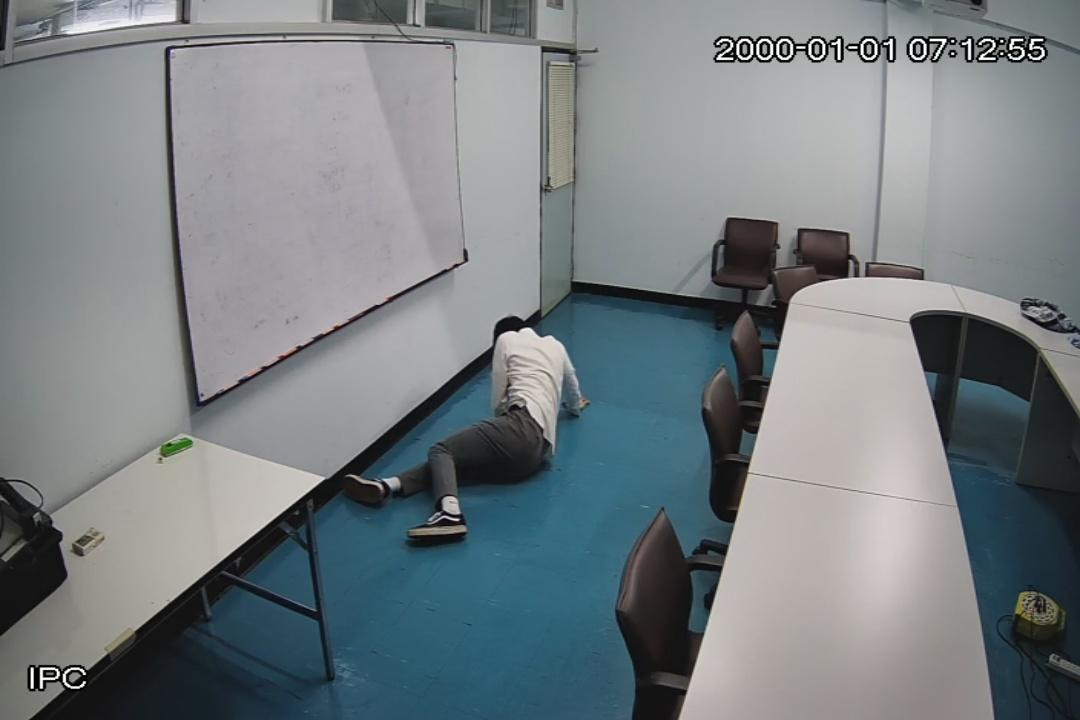fall: (336, 310, 592, 549)
